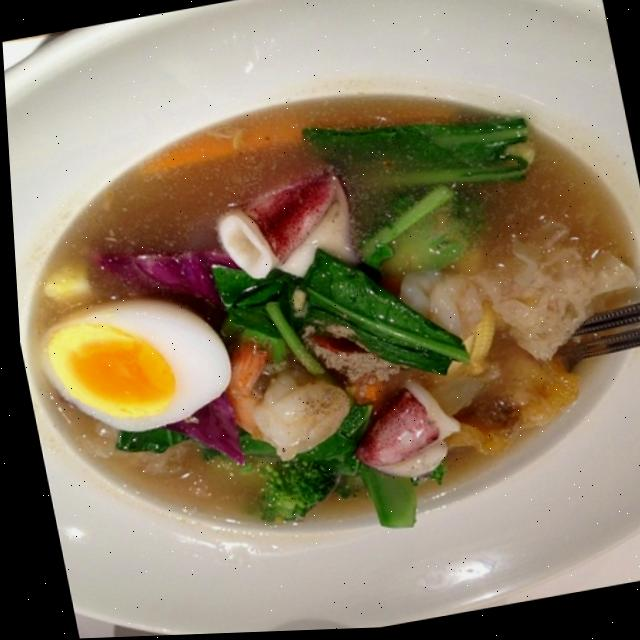面条主食: (3, 40, 640, 612)
